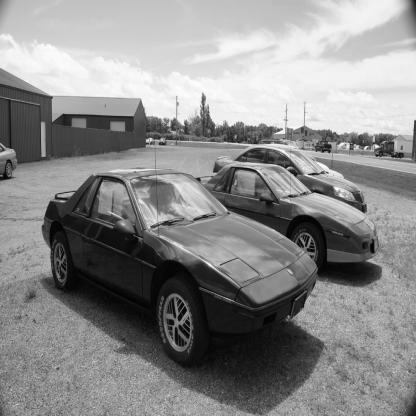car: (28, 152, 311, 386), (218, 148, 388, 277)
